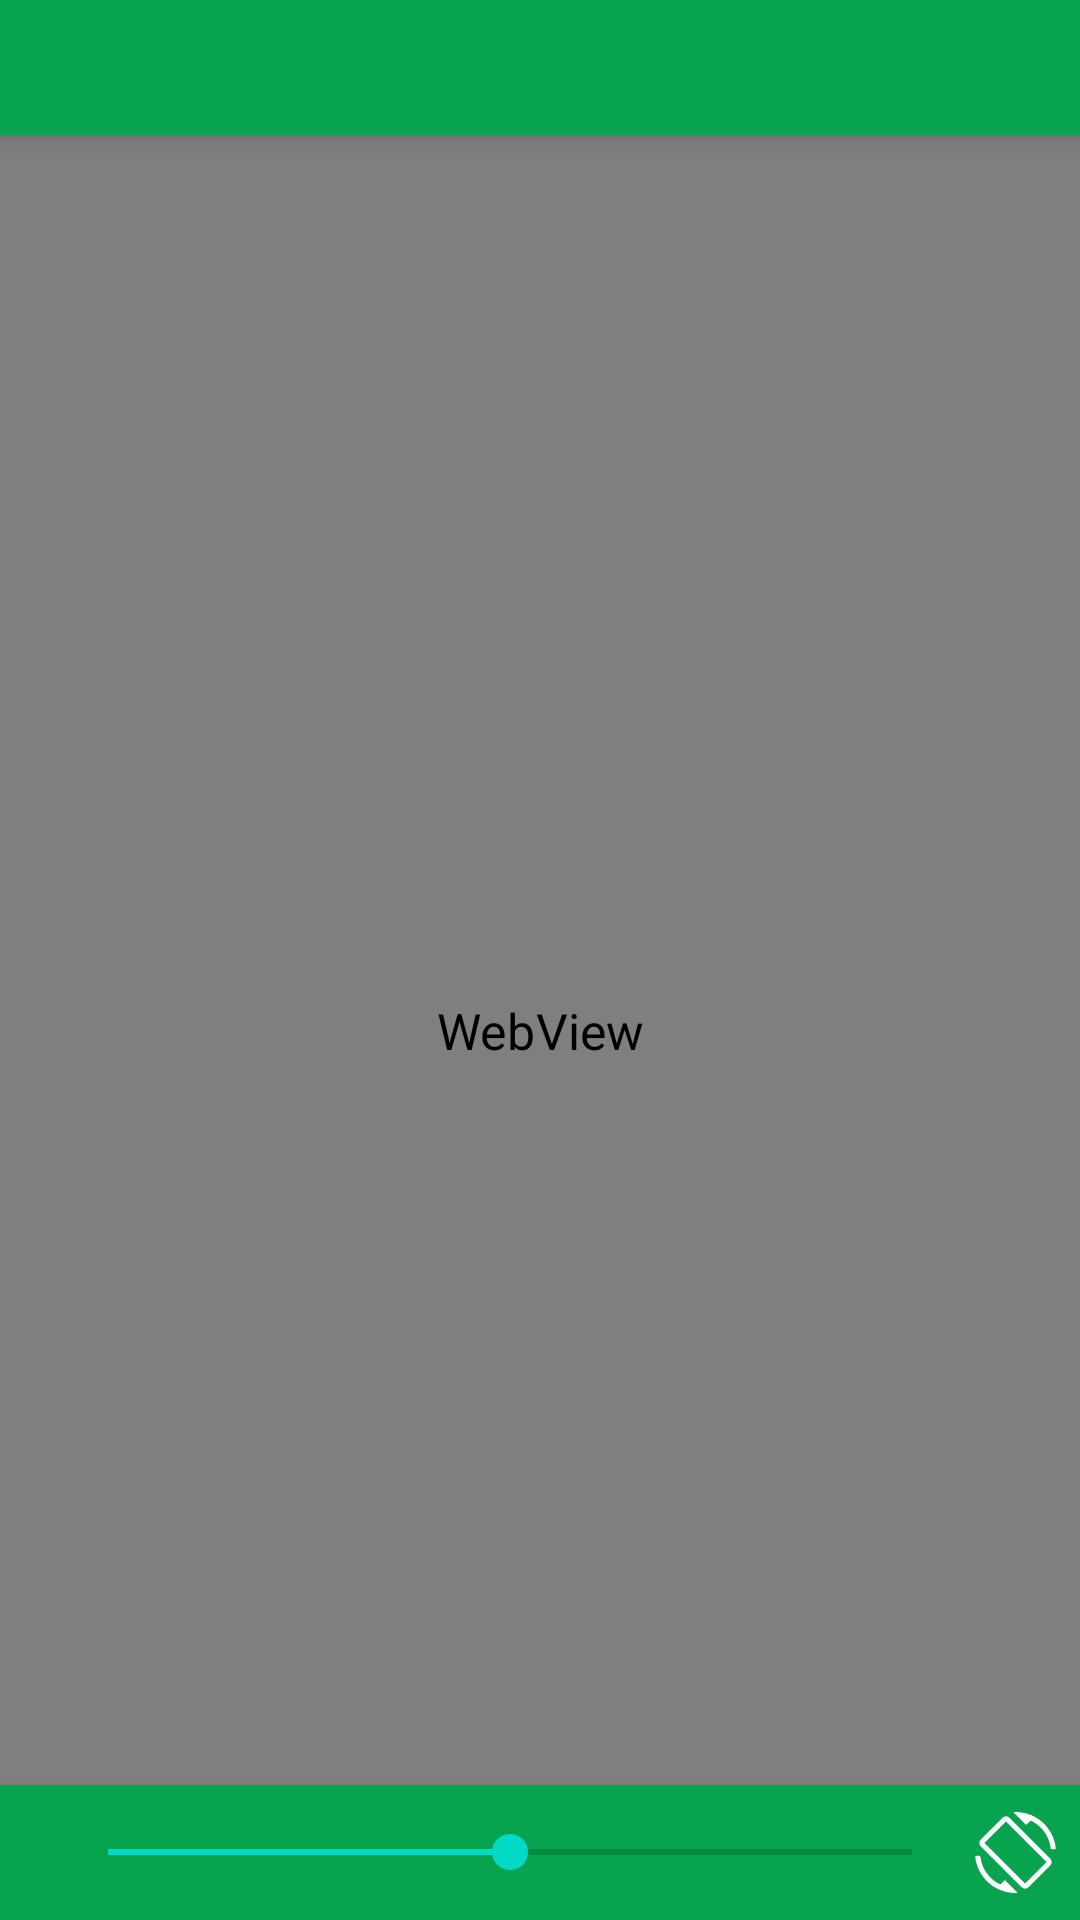

Named icons in this screenshot (1080px×1920px) and their bounding boxes, (x1, y1, x2, y2):
rotation: (975, 1812, 1056, 1893)
